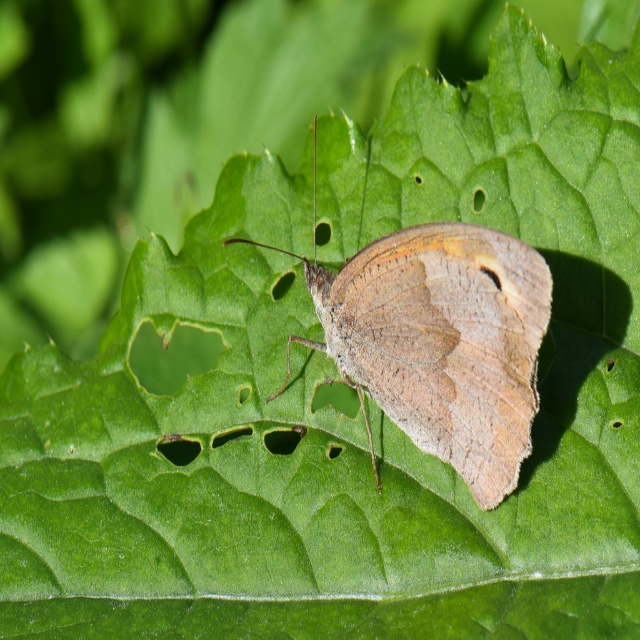Butterfly: (280, 190, 545, 528)
